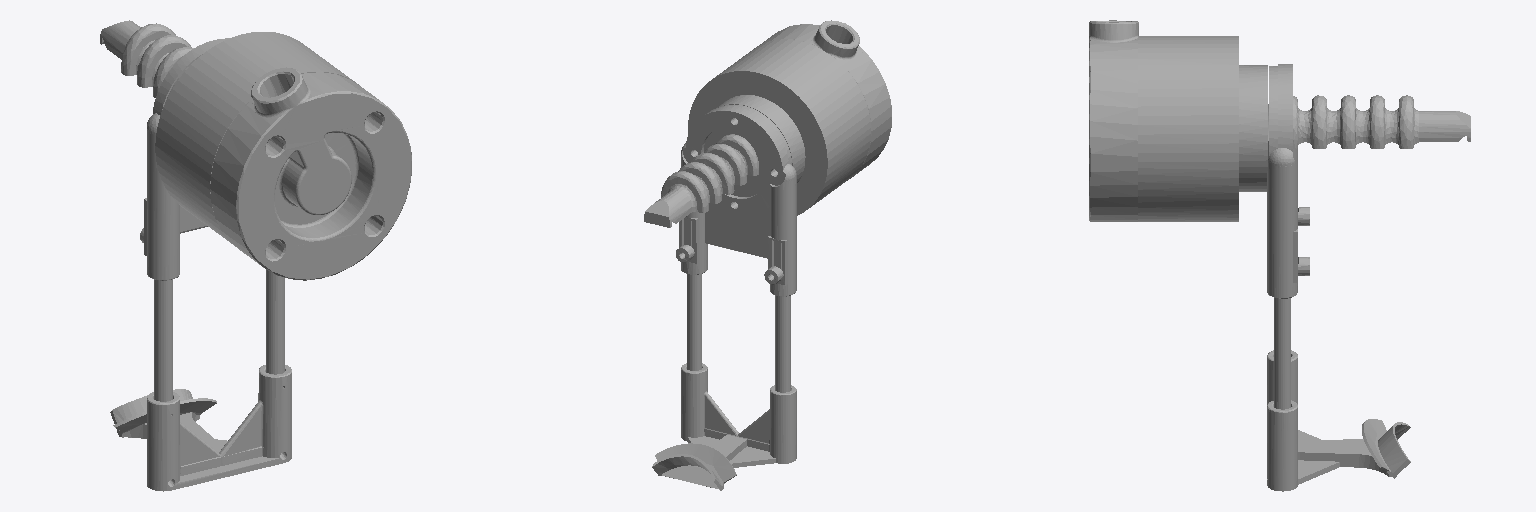
URDF robot description (ur5):
<?xml version="1.0" ?>
<!-- =================================================================================== -->
<!-- |    This document was autogenerated by xacro from ur5_robot.urdf.xacro           | -->
<!-- |    EDITING THIS FILE BY HAND IS NOT RECOMMENDED                                 | -->
<!-- =================================================================================== -->
<robot name="ur5" xmlns:xacro="http://www.ros.org/wiki/xacro">
  <!-- common stuff -->
  <gazebo>
    <plugin filename="libgazebo_ros_control.so" name="ros_control">
      <!--robotNamespace>/</robotNamespace-->
      <!--robotSimType>gazebo_ros_control/DefaultRobotHWSim</robotSimType-->
    </plugin>
    <!--
    <plugin name="gazebo_ros_power_monitor_controller" filename="libgazebo_ros_power_monitor.so">
      <alwaysOn>true</alwaysOn>
      <updateRate>1.0</updateRate>
      <timeout>5</timeout>
      <powerStateTopic>power_state</powerStateTopic>
      <powerStateRate>10.0</powerStateRate>
      <fullChargeCapacity>87.78</fullChargeCapacity>     
      <dischargeRate>-474</dischargeRate>
      <chargeRate>525</chargeRate>
      <dischargeVoltage>15.52</dischargeVoltage>
      <chargeVoltage>16.41</chargeVoltage>
    </plugin>
-->
  </gazebo>
  <!-- ur5 -->
  <!-- arm -->
  <link name="base_link">
    <visual>
      <origin rpy="0 0 0" xyz="0 0 0"/>
      <geometry>
        <mesh filename="package://ur_description/meshes/ur5/visual/Base.dae"/>
      </geometry>
    </visual>
    <collision>
      <origin rpy="0 0 0" xyz="0 0 0"/>
      <geometry>
        <mesh filename="package://ur_description/meshes/ur5/collision/Base.dae"/>
      </geometry>
    </collision>
    <inertial>
      <mass value="4.0"/>
      <origin xyz="0.0 0.0 0.0"/>
      <inertia ixx="0.00443333156" ixy="0.0" ixz="0.0" iyy="0.00443333156" iyz="0.0" izz="0.0072"/>
    </inertial>
  </link>
  
  <joint name="shoulder_pan_joint" type="revolute">
    <parent link="base_link"/>
    <child link="shoulder_link"/>
    <origin rpy="0.0 0.0 0.0" xyz="0.0 0.0 0.089159"/>
    <axis xyz="0 0 1"/>
    <limit effort="150.0" lower="-6.2831853" upper="6.2831853" velocity="3.15"/>
    <dynamics damping="0.0" friction="0.0"/>
  </joint>
  
  <link name="shoulder_link">
    <visual>
      <origin rpy="0 0 0" xyz="0 0 0"/>
      <geometry>
        <mesh filename="package://ur_description/meshes/ur5/visual/Shoulder.dae"/>
      </geometry>
    </visual>
    <collision>
      <origin rpy="0 0 0" xyz="0 0 0"/>
      <geometry>
        <mesh filename="package://ur_description/meshes/ur5/collision/Shoulder.dae"/>
      </geometry>
    </collision>
    <inertial>
      <mass value="3.7"/>
      <origin rpy="0 0 0" xyz="0.0 0.0 0.0"/>
      <inertia ixx="0.010267495893" ixy="0.0" ixz="0.0" iyy="0.010267495893" iyz="0.0" izz="0.00666"/>
    </inertial>
  </link>
  
  <joint name="shoulder_lift_joint" type="revolute">
    <parent link="shoulder_link"/>
    <child link="upper_arm_link"/>
    <origin rpy="0.0 1.570796325 0.0" xyz="0.0 0.13585 0.0"/>
    <axis xyz="0 1 0"/>
    <limit effort="150.0" lower="-3.24" upper="0.1" velocity="3.15"/>
    <dynamics damping="0.0" friction="0.0"/>
  </joint>
  
  <link name="upper_arm_link">
    <visual>
      <origin rpy="0 0 0" xyz="0 0 0"/>
      <geometry>
        <mesh filename="package://ur_description/meshes/ur5/visual/UpperArm.dae"/>
      </geometry>
    </visual>
    <collision>
      <origin rpy="0 0 0" xyz="0 0 0"/>
      <geometry>
        <mesh filename="package://ur_description/meshes/ur5/collision/UpperArm.dae"/>
      </geometry>
    </collision>
    <inertial>
      <mass value="8.393"/>
      <origin rpy="0 0 0" xyz="0.0 0.0 0.28"/>
      <inertia ixx="0.22689067591" ixy="0.0" ixz="0.0" iyy="0.22689067591" iyz="0.0" izz="0.0151074"/>
    </inertial>
  </link>
  
  <joint name="elbow_joint" type="revolute">
    <parent link="upper_arm_link"/>
    <child link="forearm_link"/>
    <origin rpy="0.0 0.0 0.0" xyz="0.0 -0.1197 0.425"/>
    <axis xyz="0 1 0"/>
    <limit effort="150.0" lower="-6.2831853" upper="6.2831853" velocity="3.15"/>
    <dynamics damping="0.0" friction="0.0"/>
  </joint>
  
  <link name="forearm_link">
    <visual>
      <origin rpy="0 0 0" xyz="0 0 0"/>
      <geometry>
        <mesh filename="package://ur_description/meshes/ur5/visual/Forearm.dae"/>
      </geometry>
    </visual>
    <collision>
      <origin rpy="0 0 0" xyz="0 0 0"/>
      <geometry>
        <mesh filename="package://ur_description/meshes/ur5/collision/Forearm.dae"/>
      </geometry>
    </collision>
    <inertial>
      <mass value="2.275"/>
      <origin rpy="0 0 0" xyz="0.0 0.0 0.25"/>
      <inertia ixx="0.049443313556" ixy="0.0" ixz="0.0" iyy="0.049443313556" iyz="0.0" izz="0.004095"/>
    </inertial>
  </link>
  
  <joint name="wrist_1_joint" type="revolute">
    <parent link="forearm_link"/>
    <child link="wrist_1_link"/>
    <origin rpy="0.0 1.570796325 0.0" xyz="0.0 0.0 0.39225"/>
    <axis xyz="0 1 0"/>
    <limit effort="28.0" lower="-6.2831853" upper="6.2831853" velocity="3.2"/>
    <dynamics damping="0.0" friction="0.0"/>
  </joint>
  
  <link name="wrist_1_link">
    <visual>
      <origin rpy="0 0 0" xyz="0 0 0"/>
      <geometry>
        <mesh filename="package://ur_description/meshes/ur5/visual/Wrist1.dae"/>
      </geometry>
    </visual>
    <collision>
      <origin rpy="0 0 0" xyz="0 0 0"/>
      <geometry>
        <mesh filename="package://ur_description/meshes/ur5/collision/Wrist1.dae"/>
      </geometry>
    </collision>
    <inertial>
      <mass value="1.219"/>
      <origin rpy="0 0 0" xyz="0.0 0.0 0.0"/>
      <inertia ixx="0.111172755531" ixy="0.0" ixz="0.0" iyy="0.111172755531" iyz="0.0" izz="0.21942"/>
    </inertial>
  </link>
  
  <joint name="wrist_2_joint" type="revolute">
    <parent link="wrist_1_link"/>
    <child link="wrist_2_link"/>
    <origin rpy="0.0 0.0 0.0" xyz="0.0 0.093 0.0"/>
    <axis xyz="0 0 1"/>
    <limit effort="28.0" lower="-6.2831853" upper="6.2831853" velocity="3.2"/>
    <dynamics damping="0.0" friction="0.0"/>
  </joint>
  
  <link name="wrist_2_link">
    <visual>
      <origin rpy="0 0 0" xyz="0 0 0"/>
      <geometry>
        <mesh filename="package://ur_description/meshes/ur5/visual/Wrist2.dae"/>
      </geometry>
    </visual>
    <collision>
      <origin rpy="0 0 0" xyz="0 0 0"/>
      <geometry>
        <mesh filename="package://ur_description/meshes/ur5/collision/Wrist2.dae"/>
      </geometry>
    </collision>
    <inertial>
      <mass value="1.219"/>
      <origin rpy="0 0 0" xyz="0.0 0.0 0.0"/>
      <inertia ixx="0.111172755531" ixy="0.0" ixz="0.0" iyy="0.111172755531" iyz="0.0" izz="0.21942"/>
    </inertial>
  </link>
  
  <joint name="wrist_3_joint" type="revolute">
    <parent link="wrist_2_link"/>
    <child link="wrist_3_link"/>
    <origin rpy="0.0 0.0 0.0" xyz="0.0 0.0 0.09465"/>
    <axis xyz="0 1 0"/>
    <limit effort="28.0" lower="-6.2831853" upper="6.2831853" velocity="3.2"/>
    <dynamics damping="0.0" friction="0.0"/>
  </joint>
  
  <link name="wrist_3_link">
    <visual>
      <origin rpy="0 0 0" xyz="0 0 0"/>
      <geometry>
        <mesh filename="package://ur_description/meshes/ur5/visual/Wrist3.dae"/>
      </geometry>
    </visual>
    <collision>
      <origin rpy="0 0 0" xyz="0 0 0"/>
      <geometry>
        <mesh filename="package://ur_description/meshes/ur5/collision/Wrist3.dae"/>
      </geometry>
    </collision>
    <inertial>
      <mass value="0.1879"/>
      <origin rpy="0 0 0" xyz="0.0 0.0 0.0"/>
      <inertia ixx="0.0171364731454" ixy="0.0" ixz="0.0" iyy="0.0171364731454" iyz="0.0" izz="0.033822"/>
    </inertial>
  </link>
  
  <joint name="ee_fixed_joint" type="fixed">
    <parent link="wrist_3_link"/>
    <child link="gripper_link"/>
    <origin rpy="1.570796325 0.0 0.0" xyz="0.0 0.0 0.0"/>
  </joint>
  
    <link name="gripper_link">
        <visual>
            <origin xyz="0.012 0.0945 -0.075" rpy="0 0 0" />
            <geometry>
                <mesh filename="package://ur_description/meshes/gripper.dae"/>
            </geometry>
        </visual>
        <collision>
            <origin xyz="0.012 0.0945 -0.075" rpy="0 0 0" />
            <geometry>
                <mesh filename="package://ur_description/meshes/gripper.dae"/>
            </geometry>
        </collision>
    </link> 
  
  <transmission name="shoulder_pan_trans">
  <type>transmission_interface/SimpleTransmission</type>
    <joint name="shoulder_pan_joint"/>
    <actuator name="shoulder_pan_motor">
      <hardwareInterface>EffortJointInterface</hardwareInterface>
      <mechanicalReduction>1</mechanicalReduction>
    </actuator>
  </transmission>
  <transmission name="shoulder_lift_trans">
    <type>transmission_interface/SimpleTransmission</type>
    <joint name="shoulder_lift_joint"/>
    <actuator name="shoulder_lift_motor">
      <hardwareInterface>EffortJointInterface</hardwareInterface>
      <mechanicalReduction>1</mechanicalReduction>
    </actuator>
  </transmission>
  <transmission name="elbow_trans">
    <type>transmission_interface/SimpleTransmission</type>
    <joint name="elbow_joint"/>
    <actuator name="elbow_motor">
      <hardwareInterface>EffortJointInterface</hardwareInterface>
      <mechanicalReduction>1</mechanicalReduction>
    </actuator>
  </transmission>
  <transmission name="wrist_1_trans">
    <type>transmission_interface/SimpleTransmission</type>
    <joint name="wrist_1_joint"/>
    <actuator name="wrist_1_motor">
      <hardwareInterface>EffortJointInterface</hardwareInterface>
      <mechanicalReduction>1</mechanicalReduction>
    </actuator>
  </transmission>
  <transmission name="wrist_2_trans">
    <type>transmission_interface/SimpleTransmission</type>
    <joint name="wrist_2_joint"/>
    <actuator name="wrist_2_motor">
      <hardwareInterface>EffortJointInterface</hardwareInterface>
      <mechanicalReduction>1</mechanicalReduction>
    </actuator>
  </transmission>
  <transmission name="wrist_3_trans">
    <type>transmission_interface/SimpleTransmission</type>
    <joint name="wrist_3_joint"/>
    <actuator name="wrist_3_motor">
      <hardwareInterface>EffortJointInterface</hardwareInterface>
      <mechanicalReduction>1</mechanicalReduction>
    </actuator>
  </transmission>
</robot>

--- Render facts (derived) ---
The picture shows the robot from 3 angles, left to right: view 1: azimuth 30°, elevation 25°; view 2: azimuth 150°, elevation 25°; view 3: azimuth 270°, elevation 25°; orthographic projection.
Model ur5 with 8 links and 7 joints (6 revolute, 1 fixed), rooted at base_link, posed all joints at 0.
Visible links, largest first — view 1: gripper_link; view 2: gripper_link; view 3: gripper_link.
Link boxes in pixels (bbox=[...]): gripper_link: bbox=[100, 20, 411, 491]; gripper_link: bbox=[644, 20, 891, 490]; gripper_link: bbox=[1089, 20, 1470, 491].
Size in the robot's own frame: 0.0631 by 0.1294 by 0.1615 metres.
Meshes: 8 distinct files referenced, 1 mesh visuals loaded (1 Collada DAE); not drawn: 7 (reference not matched to a file when rendering).